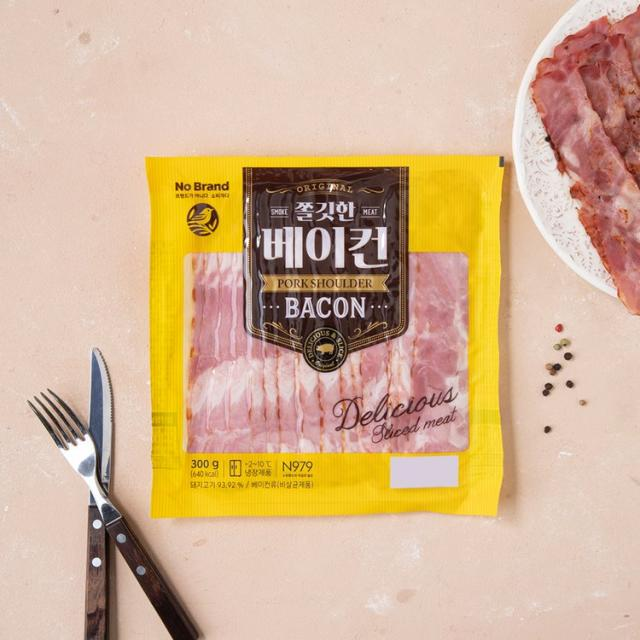bacon: (141, 159, 497, 522), (517, 17, 640, 324)
